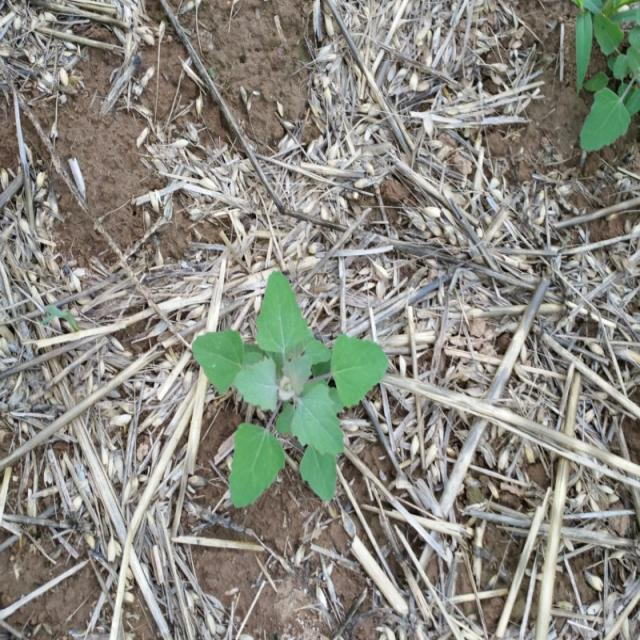goosefoots: (186, 282, 387, 504)
